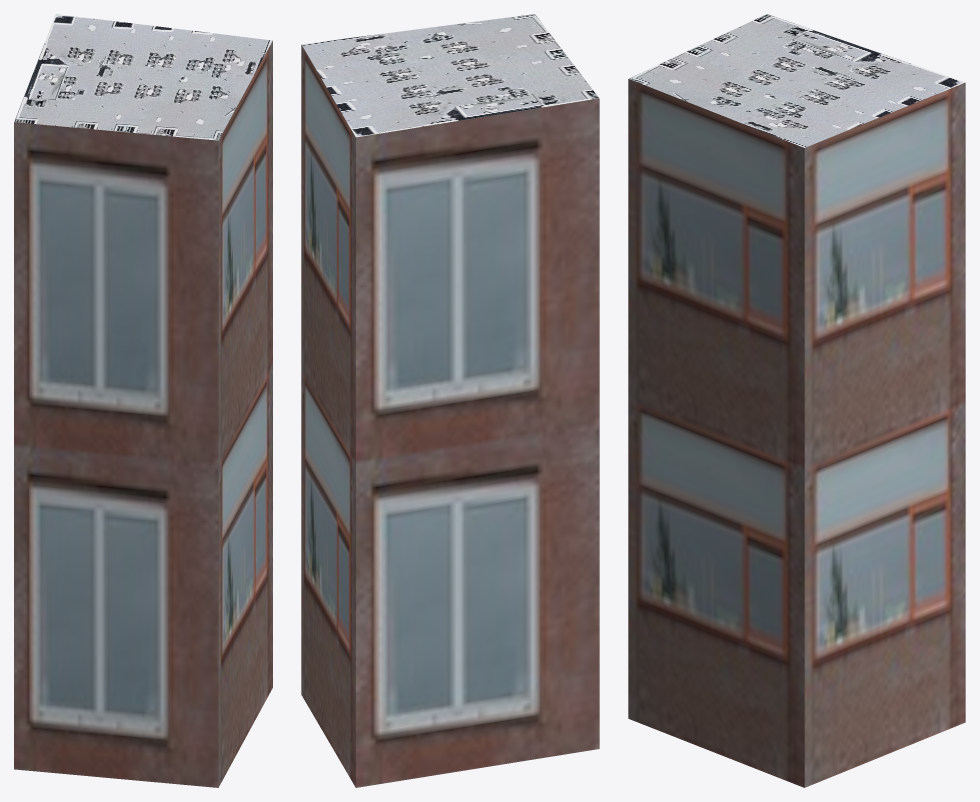
File: ResTex__2389.fbx
3 views of the same model, side by side, from view 1: azimuth 30°, elevation 25°; view 2: azimuth 150°, elevation 25°; view 3: azimuth 270°, elevation 25° (orthographic).
Parts seen in each view (by area): view 1: CityEngineMaterial_19_m, CityEngineMaterial_15_m; view 2: CityEngineMaterial_19_m, CityEngineMaterial_15_m; view 3: CityEngineMaterial_19_m, CityEngineMaterial_15_m.
Boxes of the visible parts, x1,y1,x2,y2 form: CityEngineMaterial_19_m: (14,41,272,787); CityEngineMaterial_15_m: (14,14,272,140); CityEngineMaterial_19_m: (301,45,599,787); CityEngineMaterial_15_m: (301,14,599,137); CityEngineMaterial_19_m: (628,79,965,787); CityEngineMaterial_15_m: (628,14,964,147).
Size of the model in its own units: 2.69 by 6 by 2.86.
2 materials, 2 textured.
